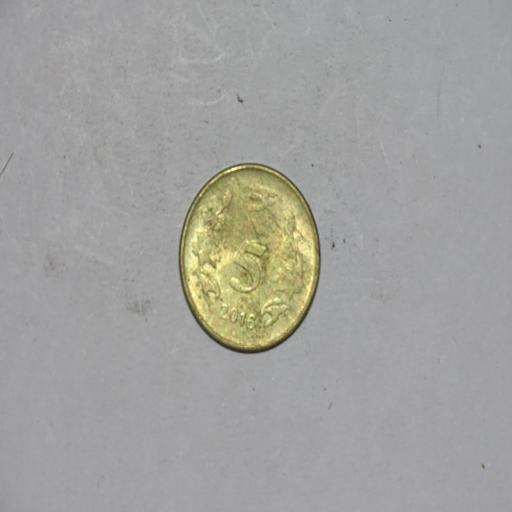rupee5: (173, 158, 324, 355)
